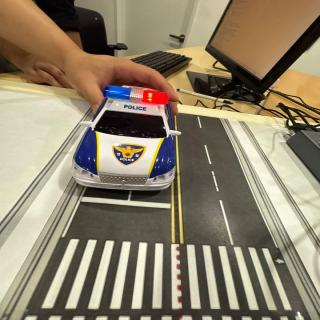Police_car: (72, 86, 180, 190)
